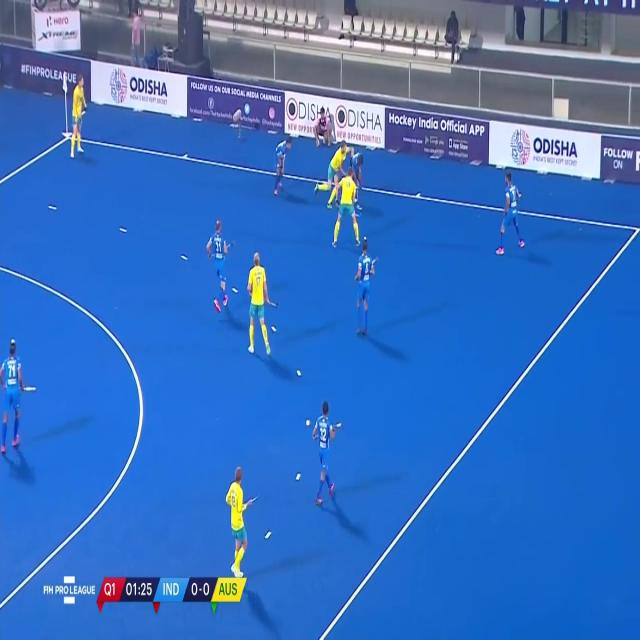ball: (362, 232, 369, 244)
